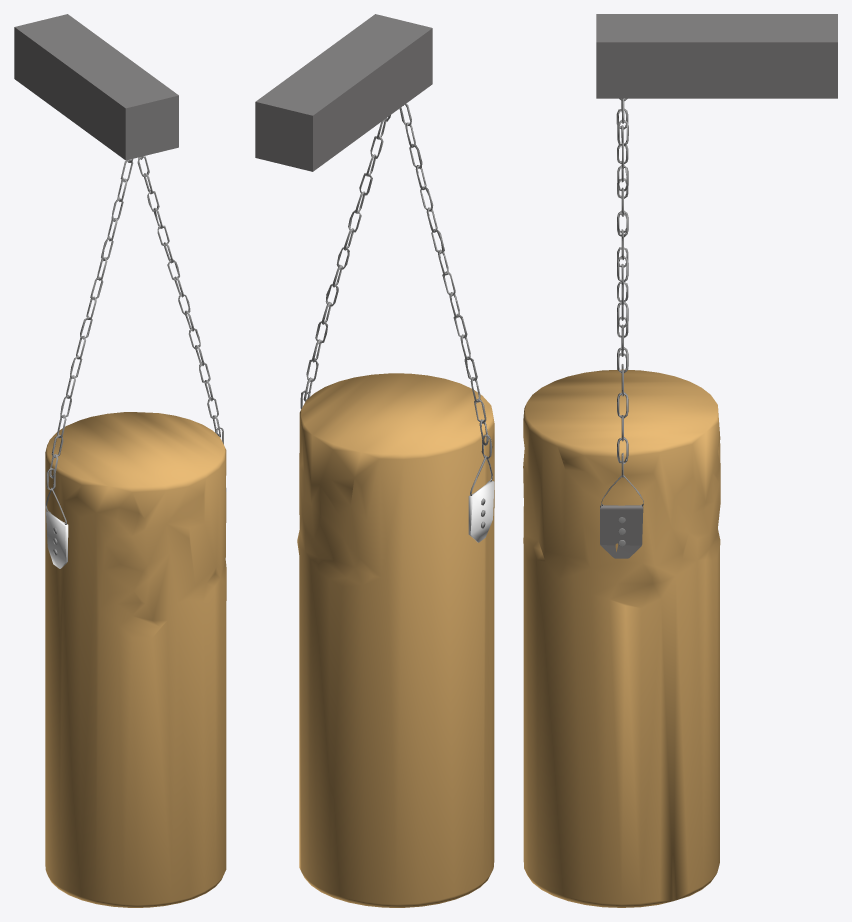
Rendered from sandbag 2500p.fbx.
3 views of the same model, side by side, from view 1: azimuth 30°, elevation 25°; view 2: azimuth 150°, elevation 25°; view 3: azimuth 270°, elevation 25° (orthographic). The views are drawn at different scales.
Visible parts, largest first — view 1: Cylinder, Cube, NurbsPath, Plane_001; view 2: Cylinder, Cube, NurbsPath, Plane_001; view 3: Cylinder, Cube, NurbsPath, Circle_002.
Part boxes in pixels (x1,y1,x2,y2): Cylinder: [45, 412, 226, 907]; Cube: [14, 14, 178, 160]; NurbsPath: [45, 156, 223, 524]; Plane_001: [46, 511, 68, 568]; Cylinder: [297, 373, 494, 907]; Cube: [255, 14, 432, 171]; NurbsPath: [300, 103, 492, 495]; Plane_001: [468, 480, 494, 542]; Cylinder: [523, 369, 720, 907]; Cube: [596, 14, 837, 98]; NurbsPath: [601, 98, 643, 506]; Circle_002: [600, 505, 643, 558].
Bounding box in the file's own units: 51.76 × 217 × 73.44.
